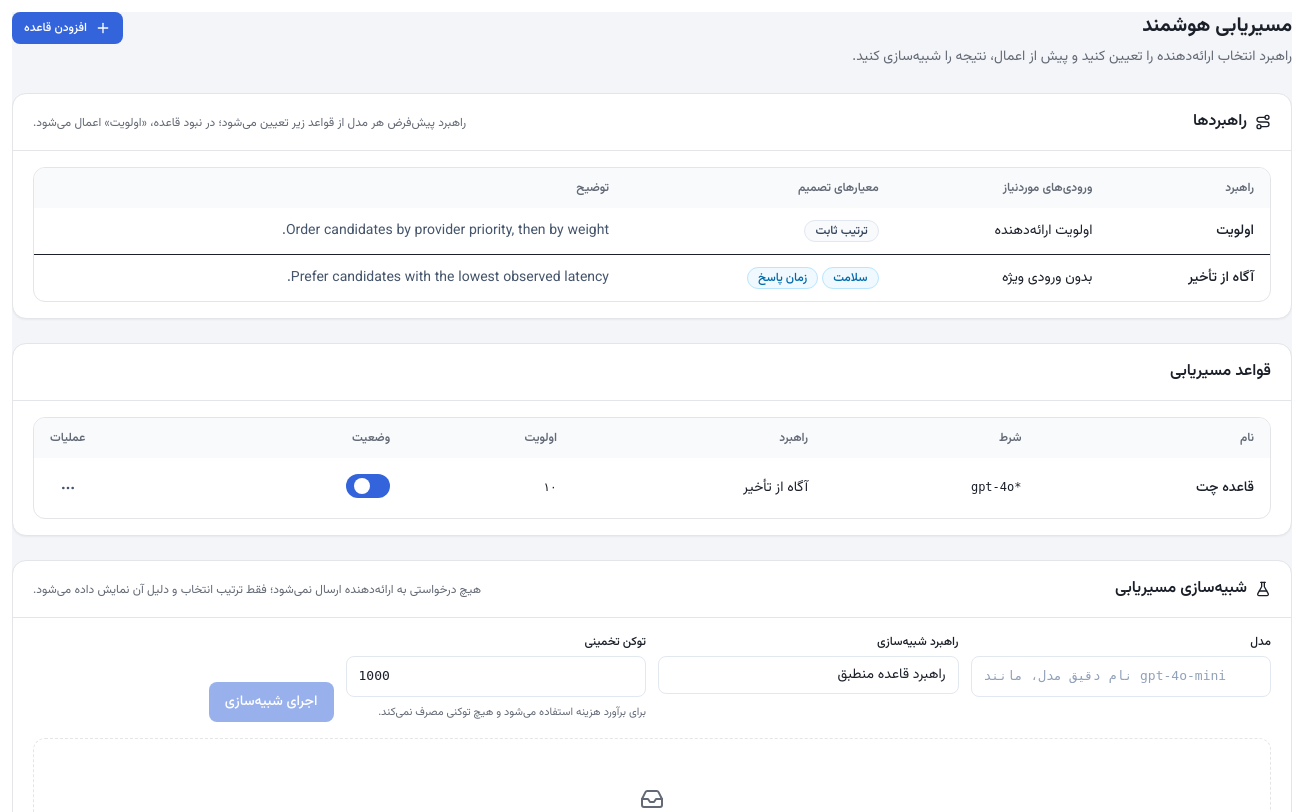
routing module › reports the missing model error code from the backend
Expected: the text "قاعده چت" is shown, top-left (1038, 458), bottom-right (1270, 518)
Step 1. Type "x" into the field labelled "مدل" → (1121, 676), box top-left (970, 656), bottom-right (1271, 697)
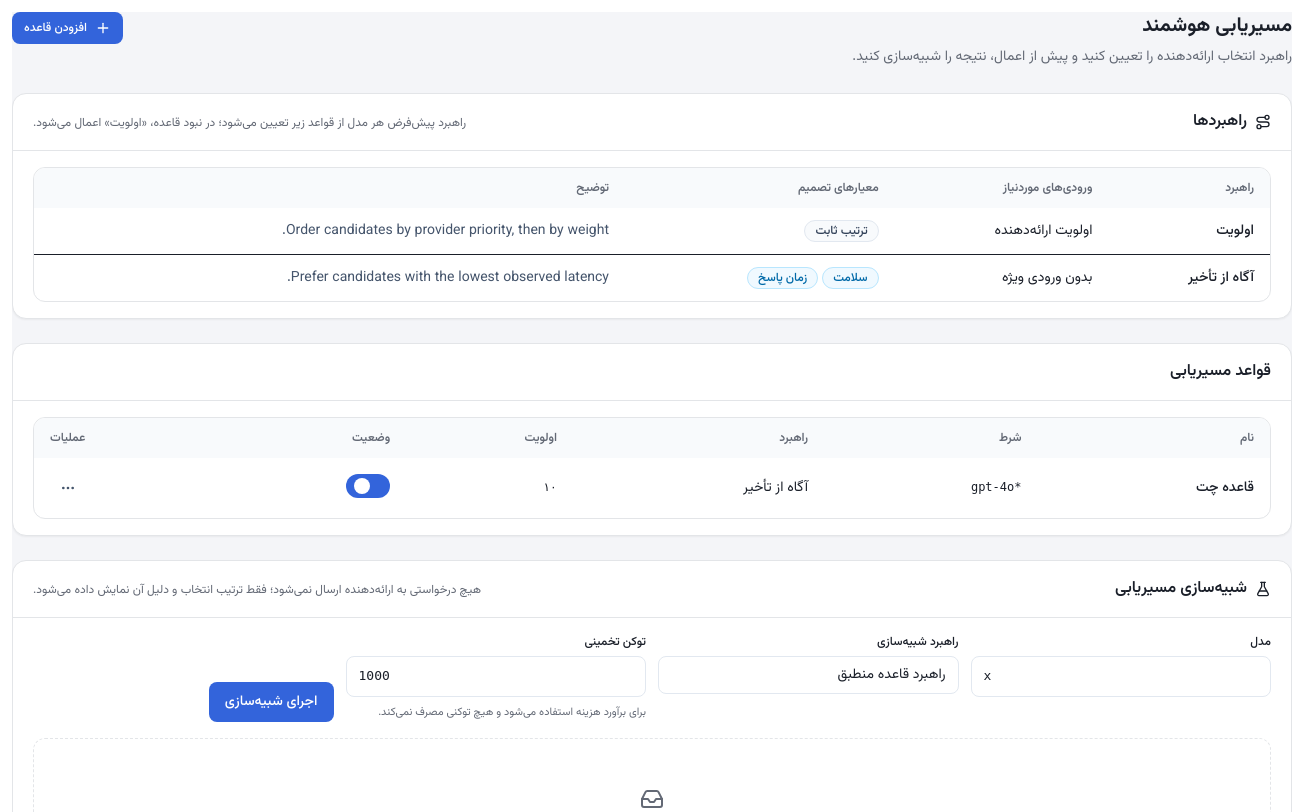
Step 2. Click the button "اجرای شبیه‌سازی" → (271, 702), box top-left (209, 682), bottom-right (334, 722)
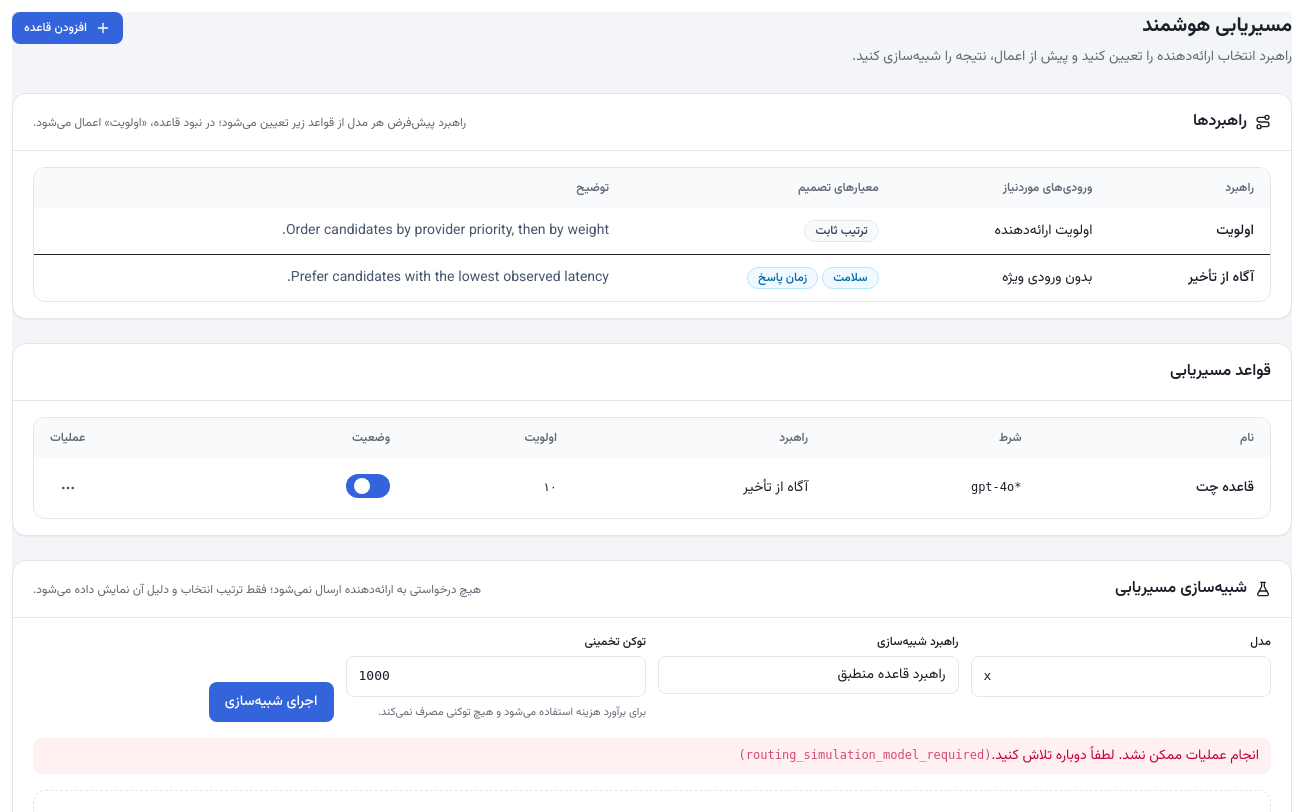
Expected: the message shows "routing_simulation_model_required", top-left (746, 748), bottom-right (984, 762)
